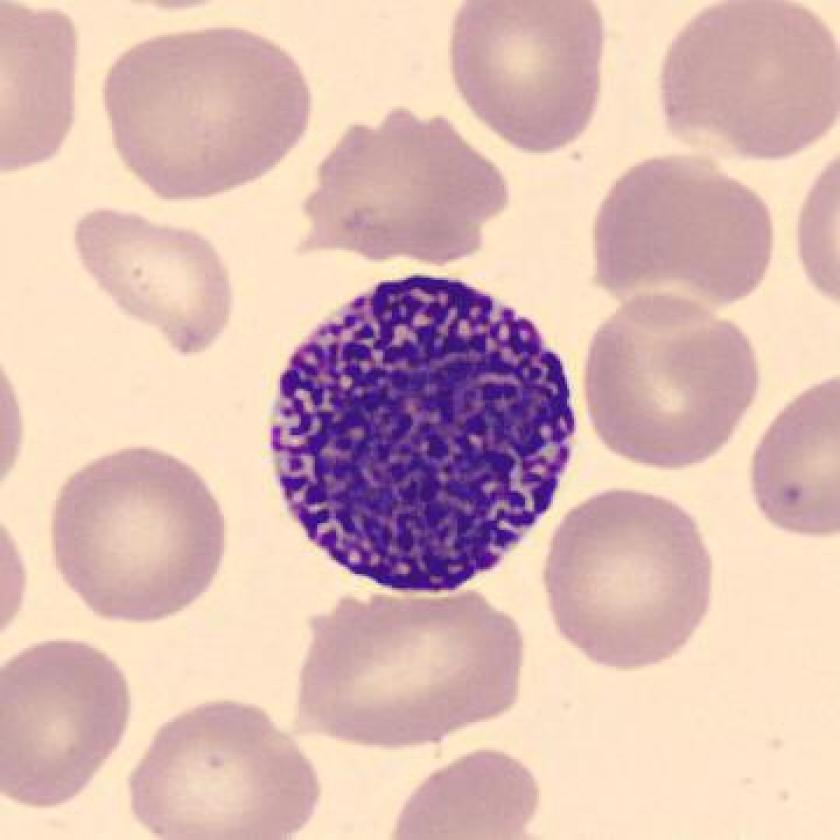basophil: (255, 265, 587, 605)
